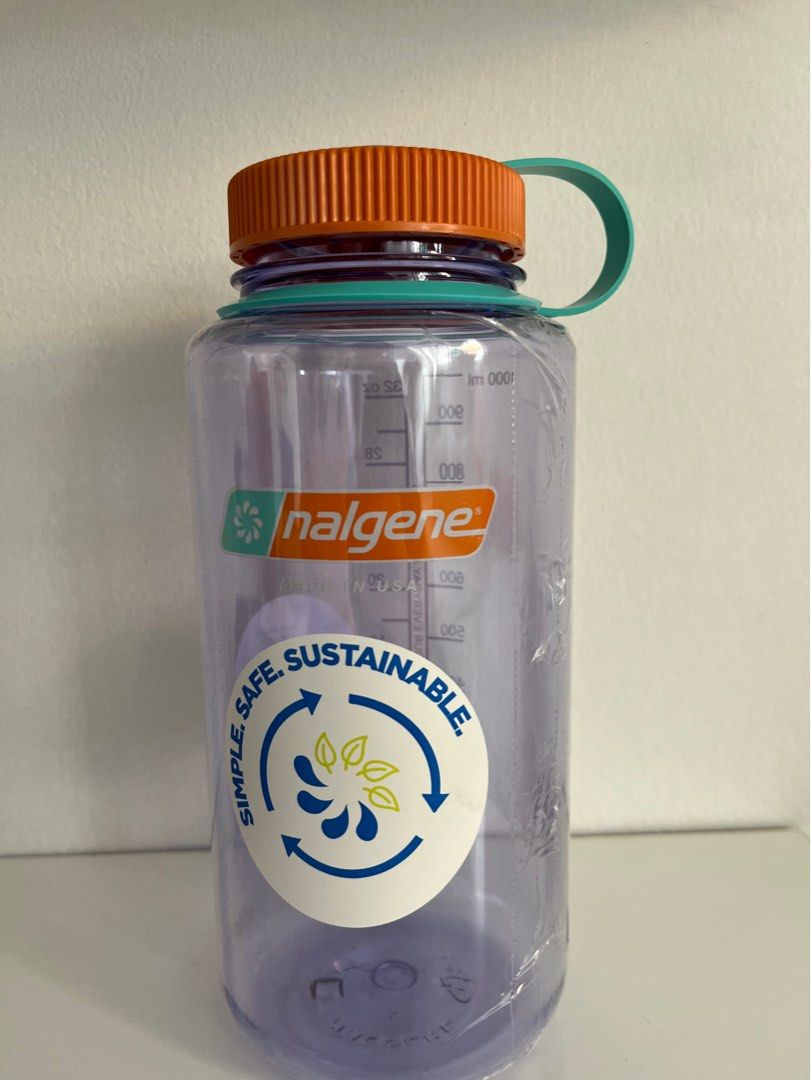waterbottle: (183, 142, 640, 1073)
